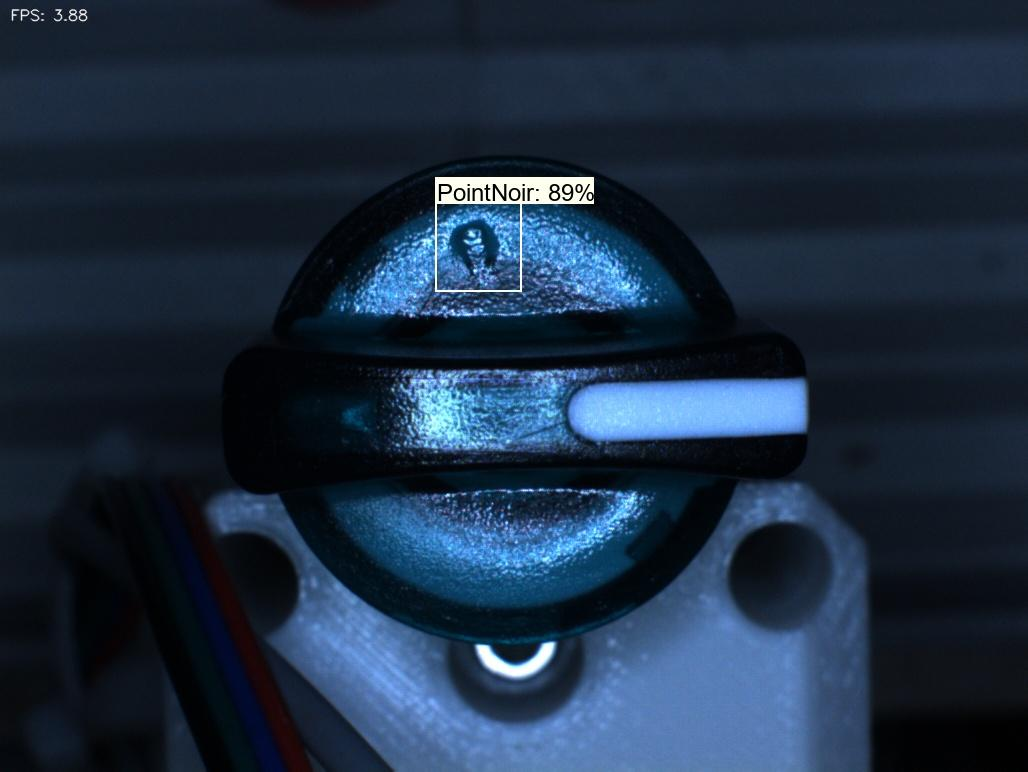Choc: (430, 202, 518, 291)
